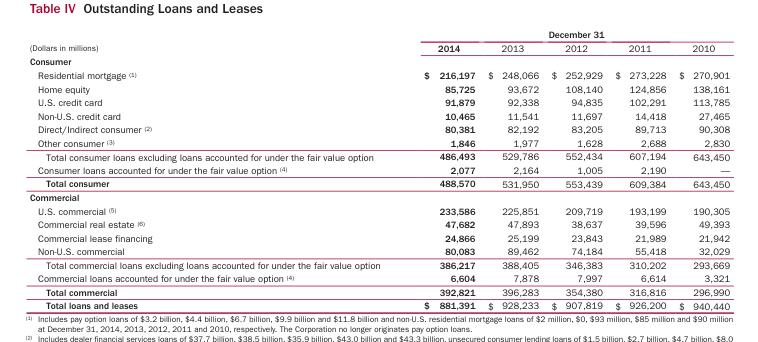table: (28, 28, 729, 310)
table column: (28, 28, 401, 310), (401, 28, 480, 310), (480, 28, 544, 310), (544, 28, 608, 310), (608, 28, 671, 310), (671, 28, 729, 310)
table column header: (28, 28, 729, 54)
table projected row header: (28, 54, 729, 67), (28, 190, 729, 203)
table row: (28, 40, 729, 54), (28, 67, 729, 81), (28, 81, 729, 95), (28, 108, 729, 122), (28, 135, 729, 149), (28, 162, 729, 176), (28, 176, 729, 190), (28, 203, 729, 217), (28, 230, 729, 244), (28, 257, 729, 271), (28, 284, 729, 298), (28, 54, 729, 67), (28, 95, 729, 108), (28, 122, 729, 135), (28, 149, 729, 162), (28, 190, 729, 203), (28, 217, 729, 230), (28, 244, 729, 257), (28, 271, 729, 284), (28, 28, 729, 40), (28, 298, 729, 310)
table spanning cell: (28, 28, 401, 54), (401, 28, 729, 40)
